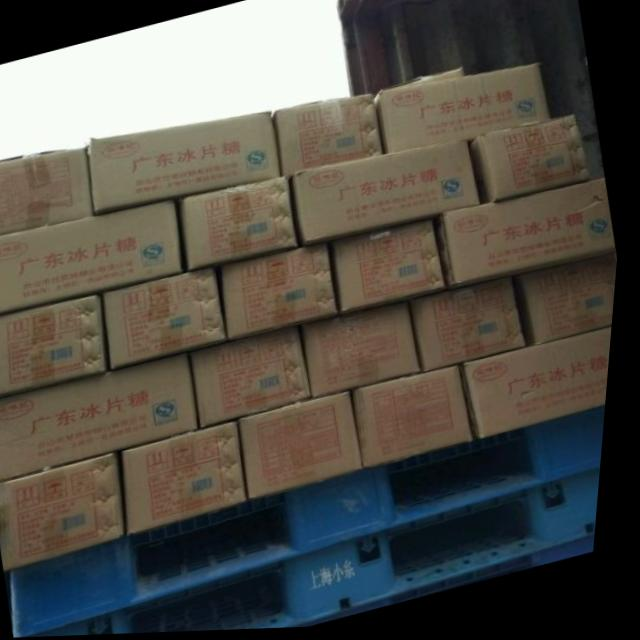box: (0, 354, 208, 482), (0, 201, 186, 314), (291, 142, 485, 247), (441, 182, 620, 292), (90, 113, 283, 214), (466, 331, 618, 444), (0, 452, 135, 570), (377, 67, 552, 155), (130, 422, 255, 535), (245, 393, 371, 502), (357, 369, 482, 473), (106, 267, 233, 369), (195, 327, 315, 429), (305, 303, 426, 400), (0, 294, 113, 396), (181, 179, 302, 274), (226, 244, 343, 341), (414, 280, 532, 376), (471, 118, 596, 207), (335, 223, 452, 316), (520, 255, 622, 349), (274, 96, 388, 176), (0, 147, 97, 235)
